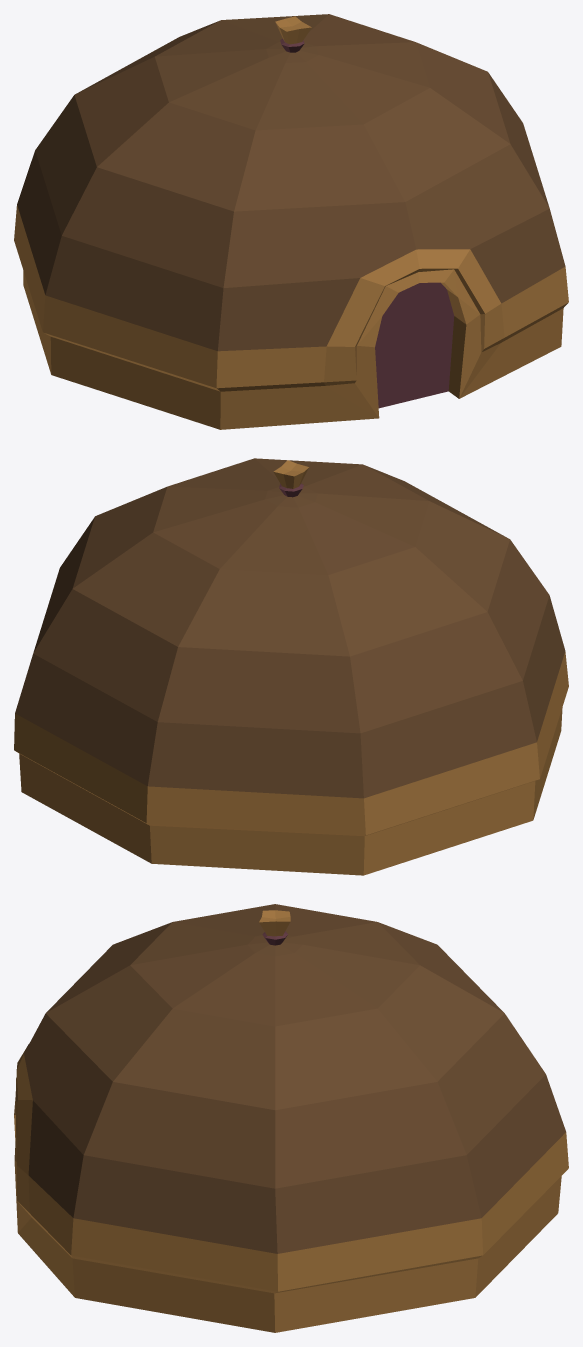
File: zulu-iqukwane.fbx
3 renders of one model, top to bottom at view 1: azimuth 30°, elevation 25°; view 2: azimuth 150°, elevation 25°; view 3: azimuth 270°, elevation 25°, orthographic.
Visible parts, largest first — view 1: zulu-iqukwane; view 2: zulu-iqukwane; view 3: zulu-iqukwane.
Part boxes in pixels (x1=…): zulu-iqukwane: x1=14, y1=14, x2=568, y2=429; zulu-iqukwane: x1=14, y1=458, x2=568, y2=875; zulu-iqukwane: x1=14, y1=904, x2=568, y2=1332.
Bounding box in the file's own units: 5.16 × 2.89 × 4.9.
